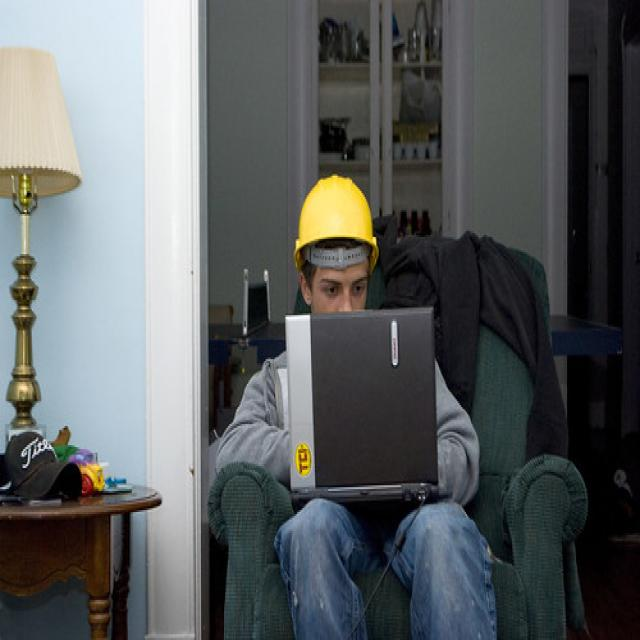Safety-Helmet: (292, 168, 380, 262)
